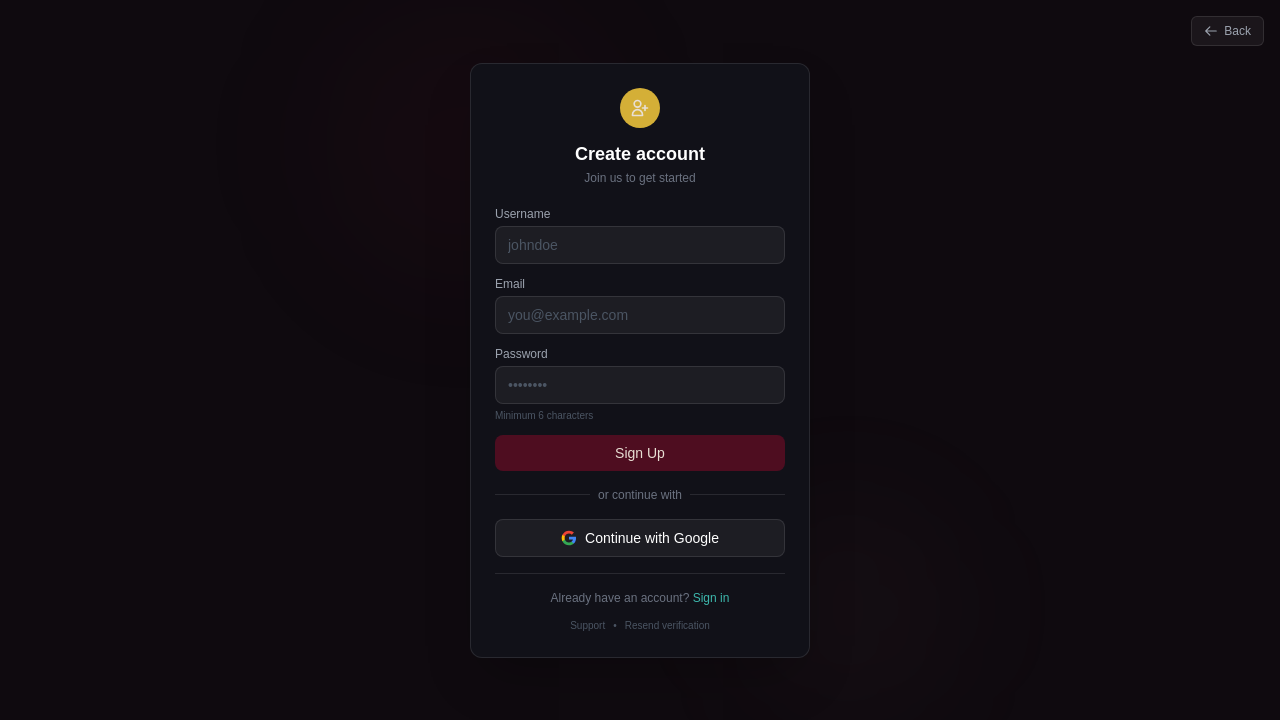
Test: Authentication Flow › Signup Page › should validate password length
Expected: the heading "Create account" is shown, top-left (575, 144), bottom-right (705, 164)
Type "testuser" into the field with placeholder "johndoe". click: (640, 245)
box: top-left (495, 226), bottom-right (785, 264)
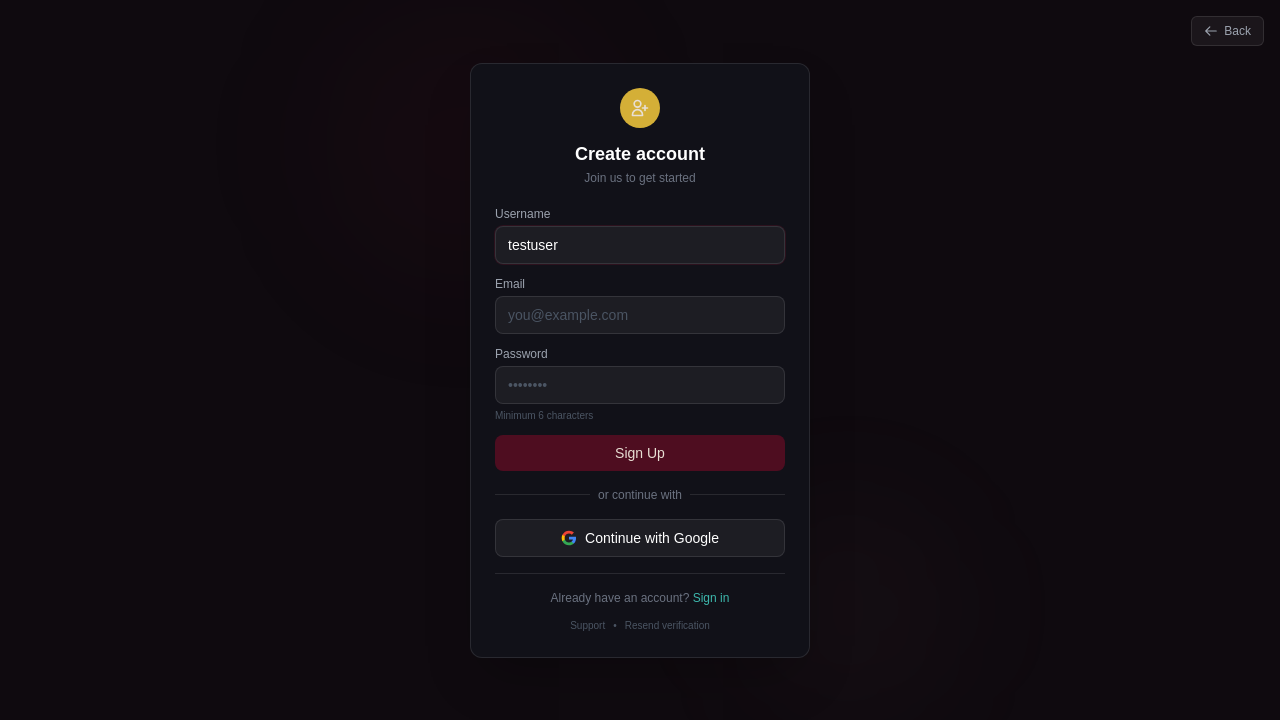
Type "test@example.com" into the field with placeholder "you@example.com". click: (640, 315)
box: top-left (495, 296), bottom-right (785, 334)
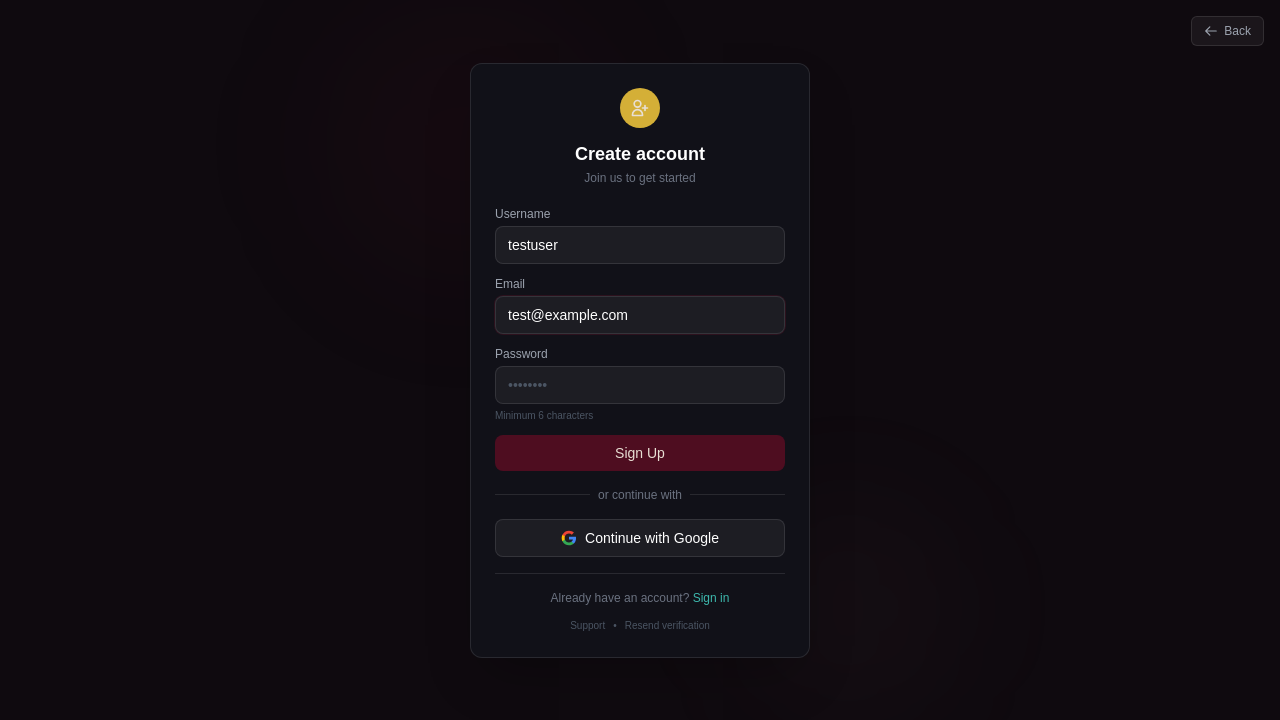
Type "short" into the password field with placeholder "••••••••". click: (640, 385)
box: top-left (495, 366), bottom-right (785, 404)
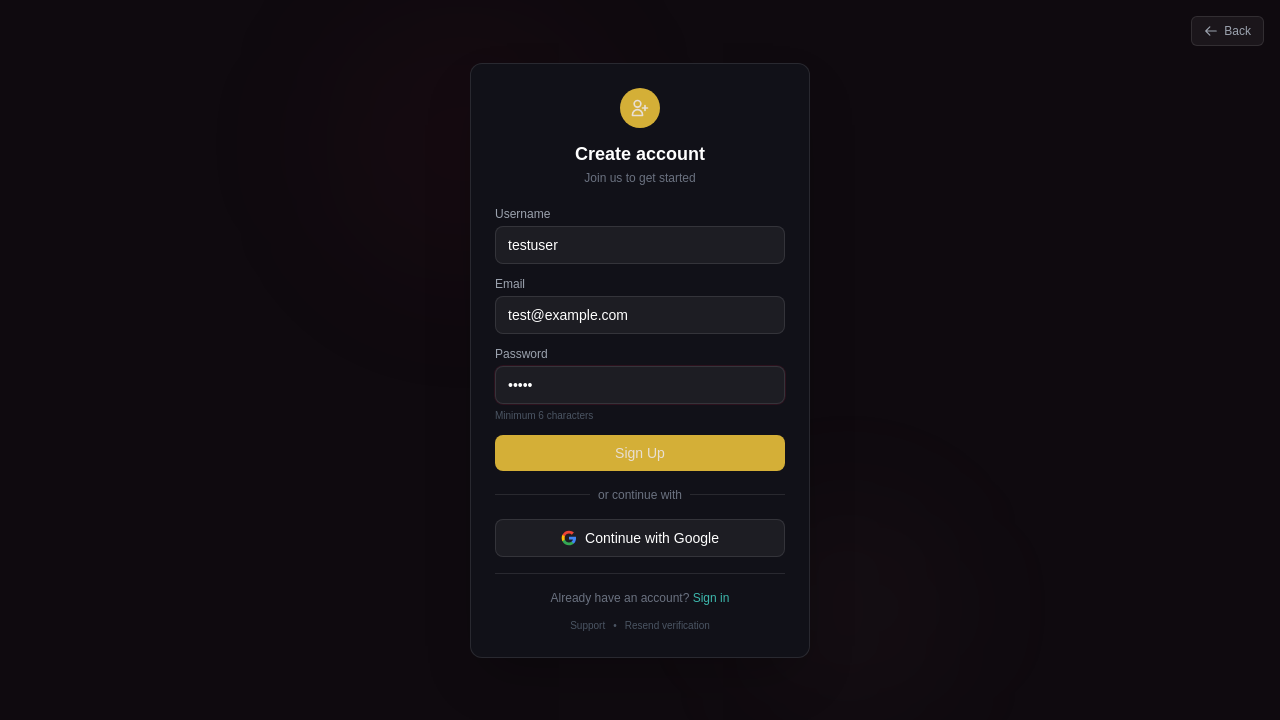
Click the submit button. click: (640, 453)
box: top-left (495, 435), bottom-right (785, 471)
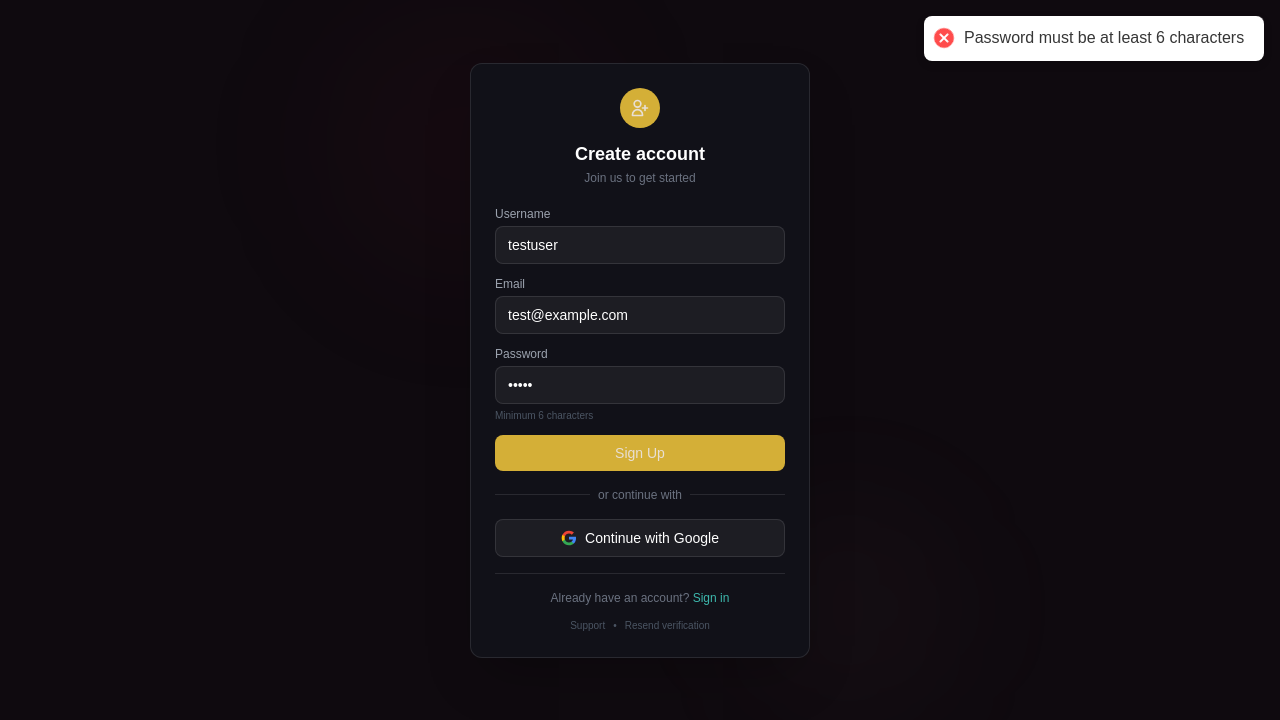
Expected: the message "Password must be at least 6 characters" is shown, top-left (964, 28), bottom-right (1244, 49)
